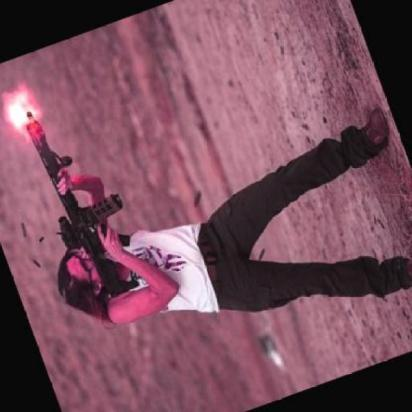Gun: (23, 112, 128, 294)
